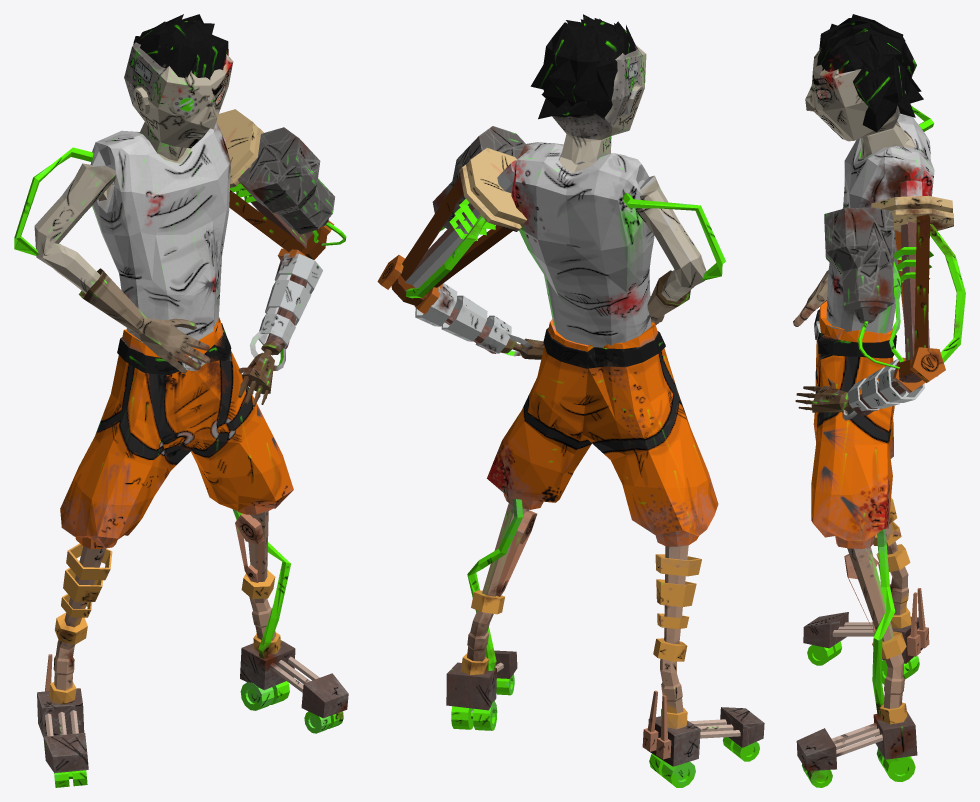
File: CyborgFINALAnimation_000016.obj
The picture shows the model from 3 angles, left to right: view 1: azimuth 30°, elevation 25°; view 2: azimuth 150°, elevation 25°; view 3: azimuth 270°, elevation 25°; orthographic projection. The views are drawn at different scales.
Parts seen in each view (by area): view 1: CyborgMesh_Cube.002; view 2: CyborgMesh_Cube.002; view 3: CyborgMesh_Cube.002.
Part boxes in pixels (<box>): CyborgMesh_Cube.002: <box>14,14,348,787</box>; CyborgMesh_Cube.002: <box>377,14,764,787</box>; CyborgMesh_Cube.002: <box>793,14,965,787</box>.
Size of the model in its own units: 4.59 by 9.61 by 2.13.
